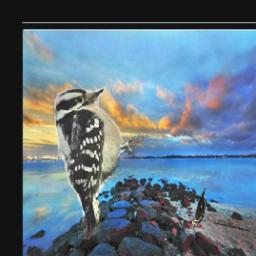Woodpecker: (52, 85, 145, 241), (188, 184, 207, 230)
